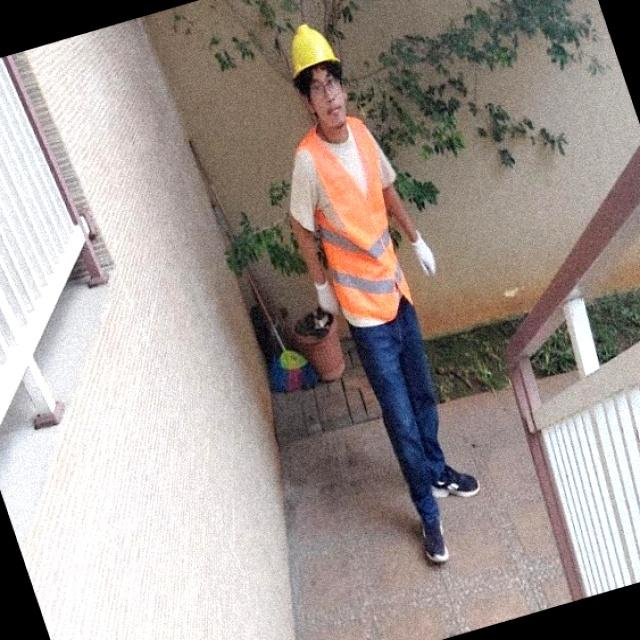helmet: (278, 24, 353, 74)
safety_vest: (298, 105, 417, 332)
